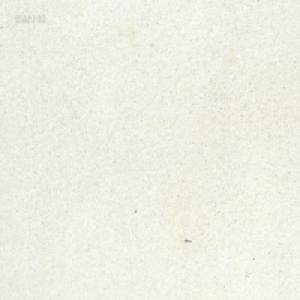Nail: (184, 237, 191, 242)
